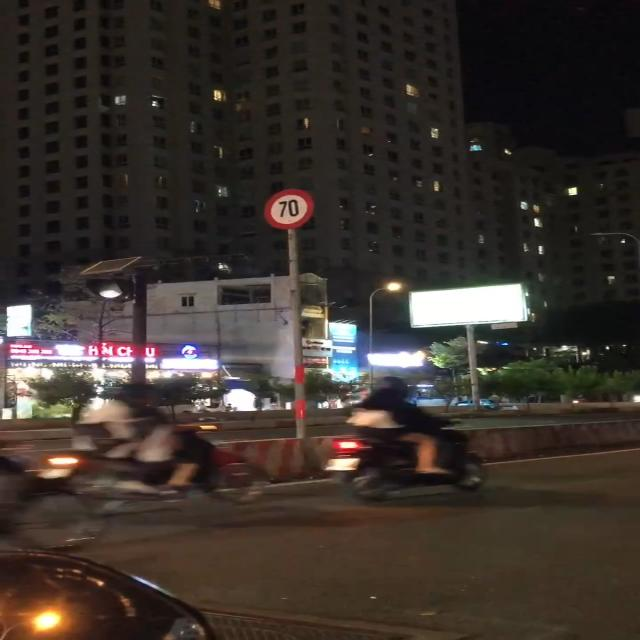Bien bao toc do toi da cho phep: (259, 187, 318, 229)
